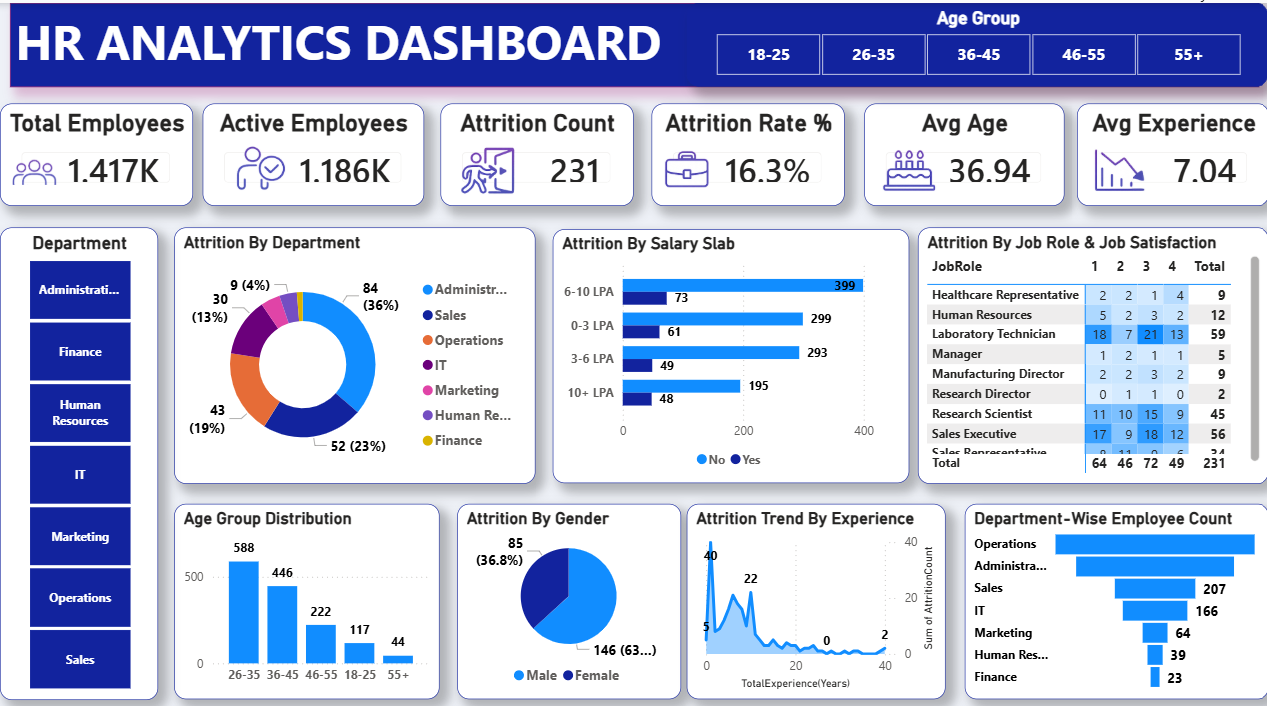

This screenshot's page, from the dashboard's own definition file:
{"tool":"powerbi","page":{"name":"Page 1","canvas":[1280,720],"ordinal":0},"visuals":[{"type":"textbox","box":[10,0,1259,85],"z":0},{"type":"cardVisual","title":"Total Employees","fields":{"Data":["CountNonNull(HR_Analytics-4.EmpID)"]},"box":[0,101,194.9,103.3],"z":1000},{"type":"cardVisual","title":"Active Employees","fields":{"Data":["CountNonNull(HR_Analytics-4.EmployeeCount)"]},"box":[204.3,101,223.1,103.3],"z":2000},{"type":"cardVisual","title":"Attrition Count","fields":{"Data":["Sum(HR_Analytics-4.AttritionCount)"]},"box":[443.8,101,194.9,103.3],"z":3000},{"type":"cardVisual","title":"Attrition Rate %","fields":{"Data":["HR_Analytics-4.Attrition Rate %"]},"box":[657.5,101,194.9,103.3],"z":4000},{"type":"cardVisual","title":"Avg Age","fields":{"Data":["Avg(HR_Analytics-4.Age)"]},"box":[871.2,101,202,103.3],"z":5000},{"type":"cardVisual","title":"Avg Experience","fields":{"Data":["Avg(HR_Analytics-4.YearsatCompany)"]},"box":[1084.9,101,194.9,103.3],"z":6000},{"type":"donutChart","title":"Attrition By Department","fields":{"Category":["HR_Analytics-4.Department"],"Y":["Sum(HR_Analytics-4.AttritionCount)"]},"box":[176.1,225.4,364,258.3],"z":7000},{"type":"clusteredBarChart","title":"Attrition By Salary Slab","fields":{"Y":["CountNonNull(HR_Analytics-4.EmpID)"],"Category":["HR_Analytics-4.SalarySlab"],"Series":["HR_Analytics-4.Attrition"]},"box":[556.6,227.8,359.3,256],"z":8000},{"type":"pivotTable","title":"Attrition By Job Role & Job Satisfaction","fields":{"Values":["Sum(HR_Analytics-4.AttritionCount)"],"Columns":["HR_Analytics-4.JobSatisfaction"],"Rows":["HR_Analytics-4.JobRole"]},"box":[925.3,225.4,354.6,258.3],"z":9000},{"type":"columnChart","title":"Age Group Distribution","fields":{"Category":["HR_Analytics-4.AgeGroup"],"Y":["Sum(HR_Analytics-4.EmployeeCount)"]},"box":[176.1,504.9,267.7,197.3],"z":10000},{"type":"pieChart","title":"Attrition By Gender","fields":{"Category":["HR_Analytics-4.Gender"],"Y":["Sum(HR_Analytics-4.AttritionCount)"]},"box":[460.3,504.9,225.4,197.3],"z":11000},{"type":"areaChart","title":"Attrition Trend By Experience","fields":{"Y2":["Sum(HR_Analytics-4.AttritionCount)"],"Category":["HR_Analytics-4.TotalExperience(Years)"]},"box":[692.8,504.9,260.7,197.3],"z":12000},{"type":"funnel","title":"Department-Wise Employee Count","fields":{"Category":["HR_Analytics-4.Department"],"Y":["CountNonNull(HR_Analytics-4.EmpID)"]},"box":[972.2,504.9,307.6,197.3],"z":13000},{"type":"slicer","title":"Department","fields":{"Values":["HR_Analytics-4.Department"]},"box":[0,225.4,159.7,476.7],"z":14000},{"type":"slicer","title":"Age Group","fields":{"Values":["HR_Analytics-4.AgeGroup"]},"box":[692.9,0,587,84.4],"z":15000},{"type":"image","box":[445.2,143.6,95.1,53.9],"z":16000},{"type":"image","box":[666,134.6,53.9,62.8],"z":17000},{"type":"image","box":[204.6,132.8,111.3,64.6],"z":18000},{"type":"image","box":[883.3,133.3,66.7,65],"z":19000},{"type":"image","box":[1090,135,71.7,65],"z":20000},{"type":"image","box":[10.8,136.4,52.1,57.4],"z":21000}]}

Visuals, with their boxes in screenshot pixels (x1, y1, x2, y2), scaled from the page's 1280x720 canvas onto the 1267x706 screenshot:
textbox: [10, 0, 1256, 83]
"Total Employees" cardVisual: [0, 99, 193, 200]
"Active Employees" cardVisual: [202, 99, 423, 200]
"Attrition Count" cardVisual: [439, 99, 632, 200]
"Attrition Rate %" cardVisual: [651, 99, 844, 200]
"Avg Age" cardVisual: [862, 99, 1062, 200]
"Avg Experience" cardVisual: [1074, 99, 1266, 200]
"Attrition By Department" donutChart: [174, 221, 535, 474]
"Attrition By Salary Slab" clusteredBarChart: [551, 223, 907, 474]
"Attrition By Job Role & Job Satisfaction" pivotTable: [916, 221, 1266, 474]
"Age Group Distribution" columnChart: [174, 495, 439, 689]
"Attrition By Gender" pieChart: [456, 495, 679, 689]
"Attrition Trend By Experience" areaChart: [686, 495, 944, 689]
"Department-Wise Employee Count" funnel: [962, 495, 1266, 689]
"Department" slicer: [0, 221, 158, 688]
"Age Group" slicer: [686, 0, 1266, 83]
image: [441, 141, 535, 194]
image: [659, 132, 713, 194]
image: [203, 130, 313, 194]
image: [874, 131, 940, 194]
image: [1079, 132, 1150, 196]
image: [11, 134, 62, 190]
